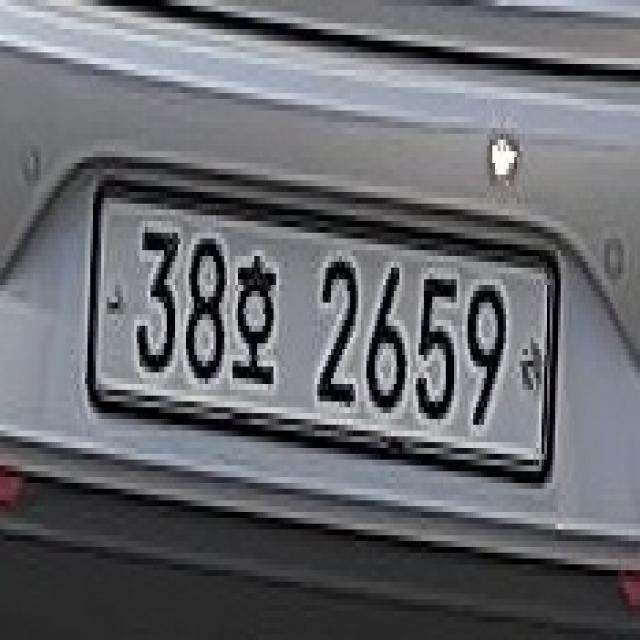2: (312, 250, 361, 413)
3: (134, 221, 181, 372)
5: (413, 268, 457, 424)
6: (363, 262, 408, 413)
8: (183, 233, 230, 390)
9: (465, 279, 506, 431)
ho: (227, 244, 279, 396)
license_plate: (85, 174, 558, 483)
